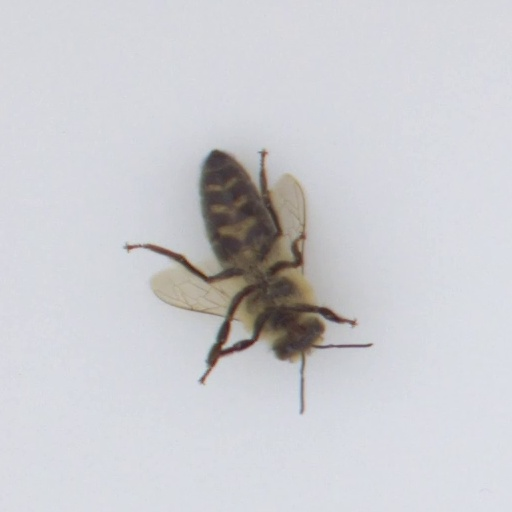Bee: (165, 131, 343, 378)
